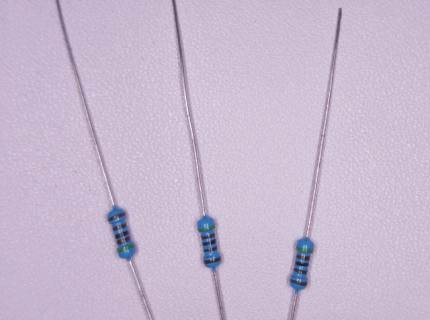Black band: (116, 230, 129, 239), (203, 239, 216, 246), (296, 262, 309, 266)
Brown band: (109, 212, 125, 221), (113, 222, 126, 232), (204, 257, 221, 264), (117, 236, 130, 245), (291, 279, 307, 286), (294, 268, 307, 275), (203, 246, 217, 252), (202, 233, 215, 239), (297, 255, 310, 261)
Green band: (118, 243, 134, 252), (198, 224, 215, 231), (297, 246, 313, 253)
